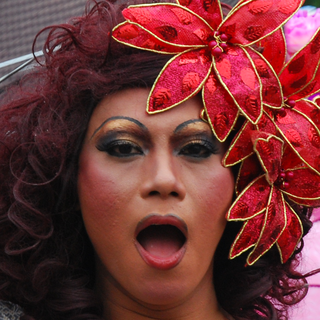eye: (97, 135, 148, 161), (171, 135, 217, 160)
